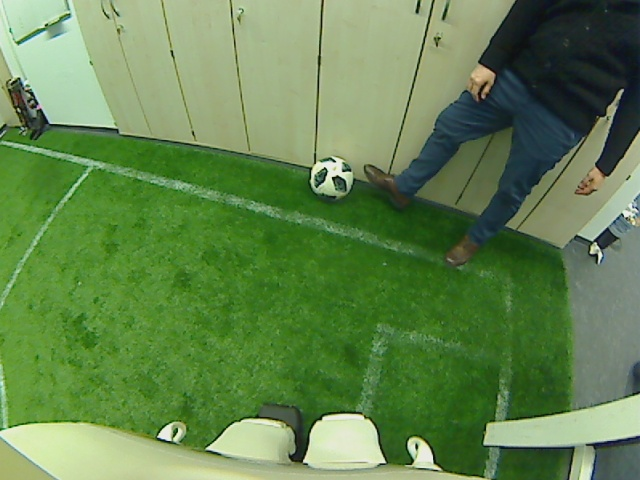ball: (307, 153, 355, 200)
